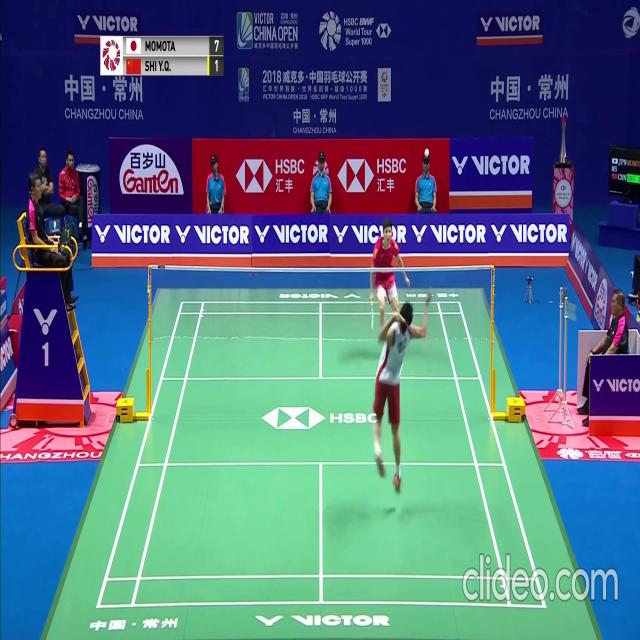Shuttlecock: (424, 149, 429, 156)
